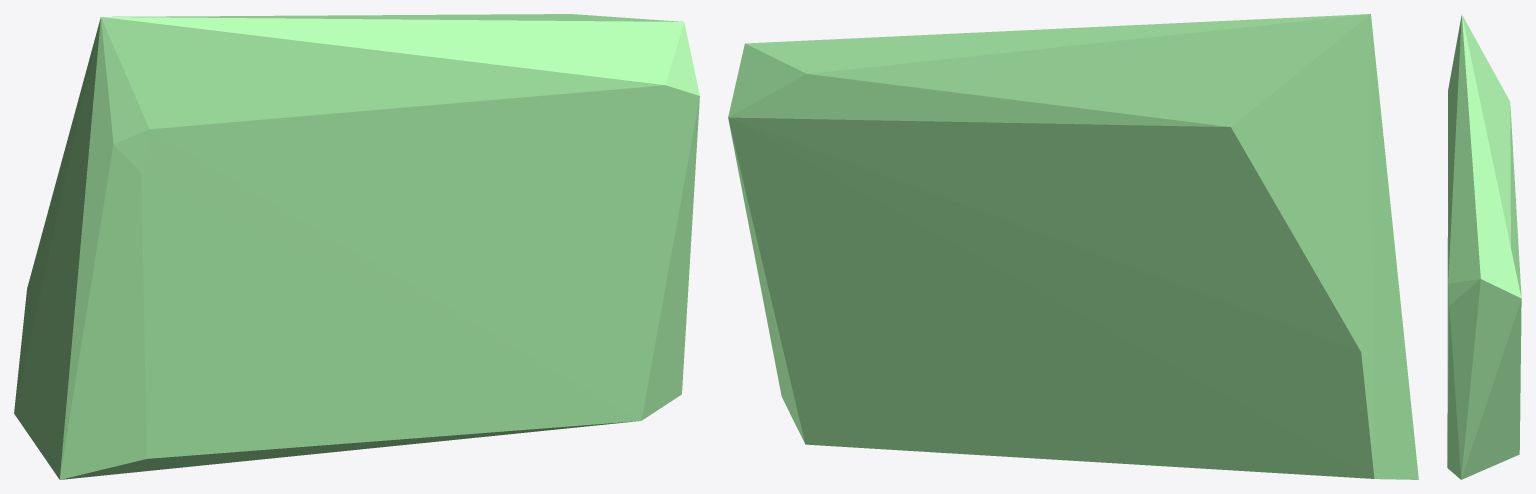
Rendered from UMIRobot_UMIRobot_link_2_convex_coll_12.dae.
3 views of the same model, side by side, from view 1: azimuth 30°, elevation 25°; view 2: azimuth 150°, elevation 25°; view 3: azimuth 270°, elevation 25° (orthographic). The views are drawn at different scales.
Parts seen in each view (by area): view 1: node; view 2: node; view 3: node.
Part boxes in pixels (x1,y1,x2,y2): node: (14, 14, 699, 479); node: (728, 14, 1418, 479); node: (1447, 14, 1521, 479).
Bounding box in the file's own units: 0.0662 × 0.0514 × 0.0113.
